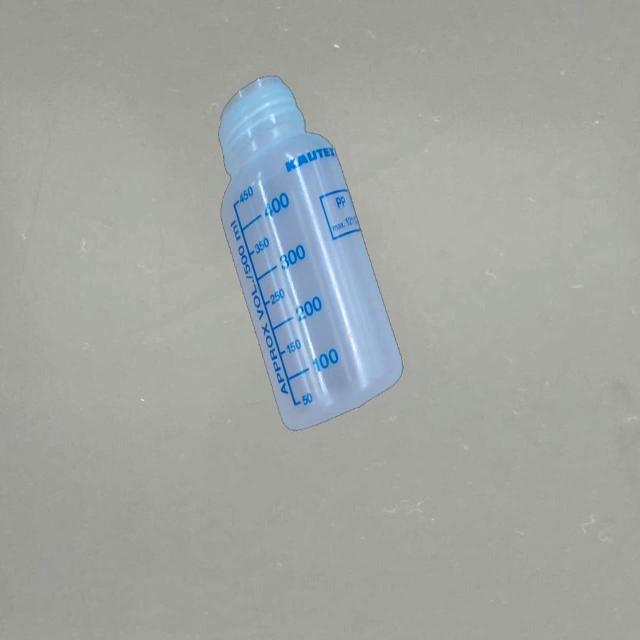bottle: (218, 72, 406, 435)
